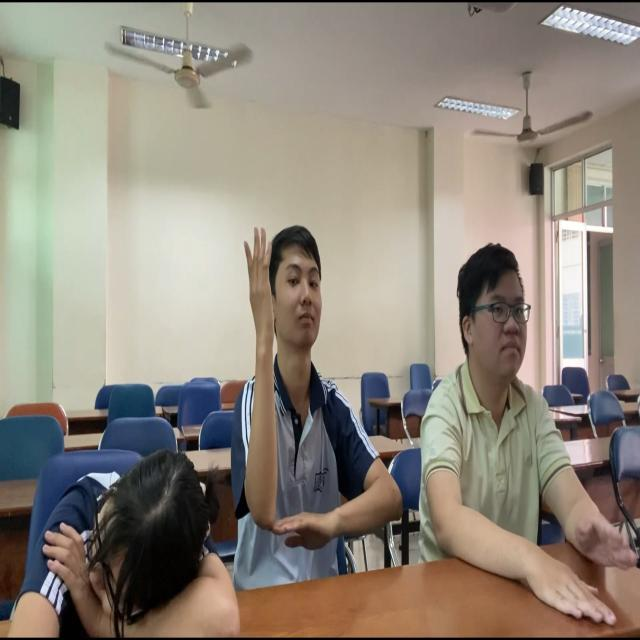raise_hand: (227, 218, 401, 571)
sleep: (10, 435, 242, 640)
